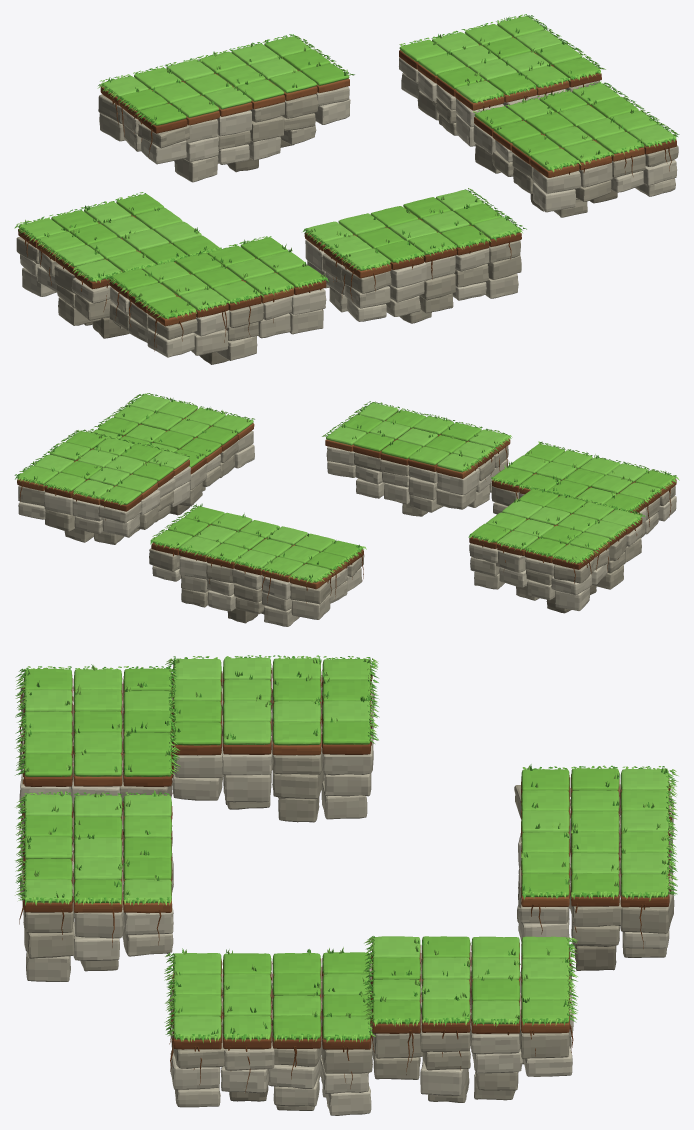
File: terrains.glb
3 renders of one model, top to bottom at view 1: azimuth 30°, elevation 25°; view 2: azimuth 150°, elevation 25°; view 3: azimuth 270°, elevation 25°, orthographic. The views are drawn at different scales.
Parts seen in each view (by area): view 1: pierre.138, pierre.229, pierre.178, pierre.177, pierre.220, pierre.050, pierre.219, pierre.051, pierre.169, pierre.146, pierre.237, pierre.137 (+120 smaller); view 2: pierre.045, pierre.215, pierre.216, pierre.046, pierre, pierre.002, pierre.090, pierre.089, pierre.251, pierre.261, pierre.054, pierre.112 (+121 smaller); view 3: pierre.261, pierre.084, pierre.042, pierre.123, pierre.204, pierre.087, pierre.040, pierre.130, pierre.131, pierre.213, case_herbe.012, case_herbe.013 (+129 smaller).
Boxes of the visible parts, box(x1,y1,x2,y2) form: pierre.138: box(147, 329, 194, 357); pierre.229: box(174, 155, 218, 182); pierre.178: box(532, 182, 575, 212); pierre.177: box(532, 168, 580, 193); pierre.220: box(141, 138, 186, 164); pierre.050: box(341, 267, 391, 293); pierre.219: box(138, 123, 189, 148); pierre.051: box(344, 284, 390, 308); pierre.169: box(290, 288, 326, 314); pierre.146: box(191, 329, 228, 355); pierre.237: box(217, 110, 251, 136); pierre.137: box(147, 315, 197, 339); pierre.045: box(437, 468, 479, 494); pierre.215: box(290, 580, 331, 604); pierre.216: box(291, 594, 330, 619); pierre.046: box(436, 487, 476, 509); pierre: box(553, 560, 593, 583); pierre.002: box(555, 587, 589, 610); pierre.090: box(102, 513, 139, 536); pierre.089: box(98, 502, 141, 523); pierre.251: box(179, 556, 207, 579); pierre.261: box(149, 548, 181, 571); pierre.054: box(408, 477, 437, 500); pierre.112: box(45, 509, 74, 531); pierre.261: box(620, 891, 674, 933); pierre.084: box(74, 894, 123, 938); pierre.042: box(224, 772, 271, 802); pierre.123: box(519, 1016, 569, 1059); pierre.204: box(321, 1040, 372, 1073); pierre.087: box(23, 921, 74, 958); pierre.040: box(272, 768, 324, 799); pierre.130: box(420, 1060, 466, 1095); pierre.131: box(371, 1022, 423, 1058); pierre.213: box(170, 1050, 220, 1089); case_herbe.012: box(322, 721, 370, 744); case_herbe.013: box(273, 721, 320, 745).
Size of the model in its own units: 36.78 by 6.24 by 26.79.
